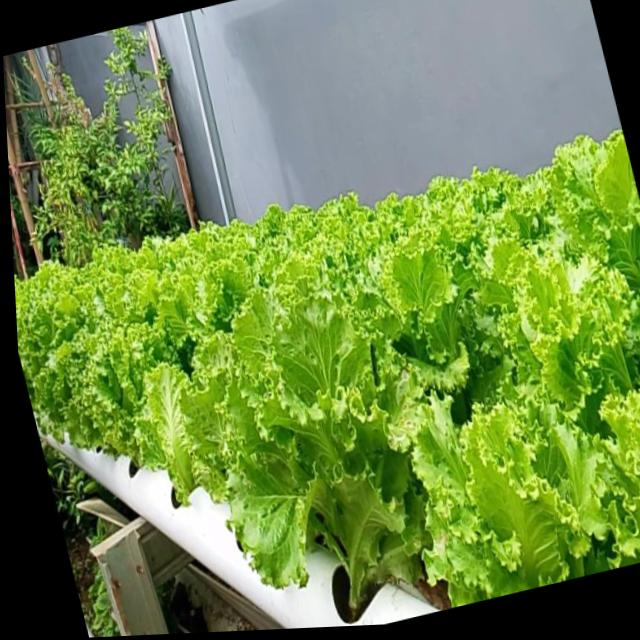Mature: (16, 133, 640, 624), (199, 301, 449, 622), (70, 324, 190, 478)
